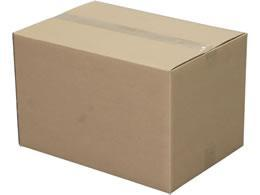box: (6, 0, 250, 195)
